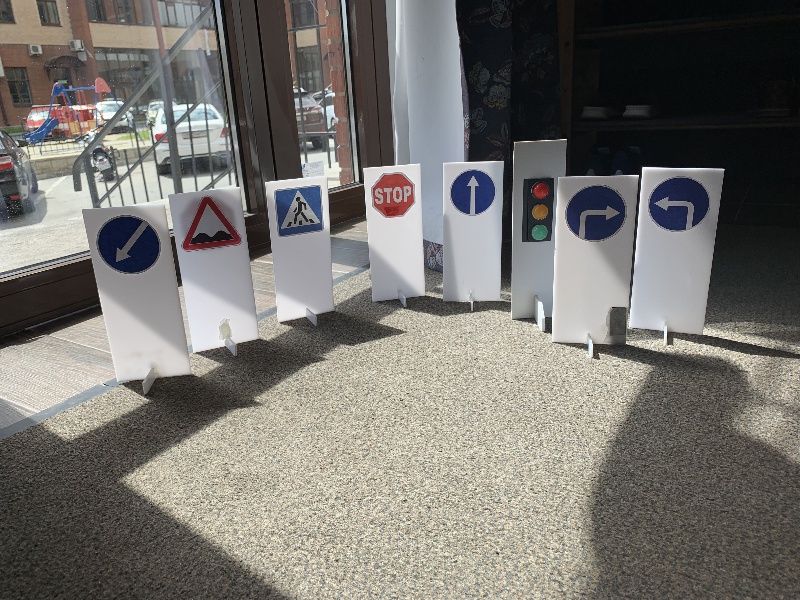Left: (645, 172, 714, 232)
Nerov: (181, 197, 239, 252)
Right: (564, 184, 629, 246)
Stop: (368, 173, 415, 218)
forw: (447, 167, 496, 220)
pesh: (275, 186, 325, 236)
prep: (95, 214, 162, 277)
